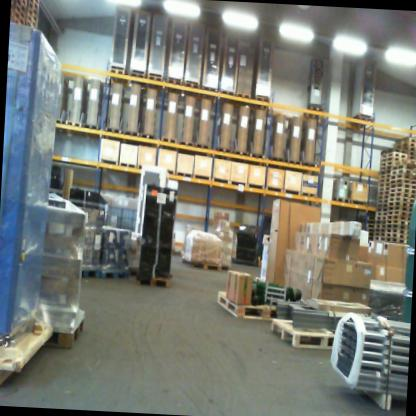pallet: (261, 309, 361, 362), (36, 311, 90, 359), (210, 286, 274, 325), (178, 246, 221, 277), (133, 269, 178, 297), (348, 112, 375, 134), (98, 265, 128, 284), (75, 261, 102, 281), (107, 63, 127, 84), (66, 117, 85, 139), (84, 119, 102, 140), (217, 86, 236, 105), (199, 84, 217, 104), (235, 89, 253, 109), (302, 102, 322, 120), (379, 150, 408, 162), (182, 80, 200, 98), (166, 76, 183, 95), (390, 163, 416, 175), (127, 68, 145, 85), (147, 70, 164, 88), (300, 189, 319, 205), (253, 91, 268, 111), (348, 197, 368, 211), (391, 159, 416, 170), (55, 113, 66, 137), (381, 154, 406, 164), (115, 159, 136, 170), (123, 126, 139, 140), (267, 154, 285, 166), (230, 148, 249, 159), (178, 137, 194, 150), (160, 134, 177, 146), (385, 232, 407, 241), (25, 6, 38, 21), (194, 141, 212, 151), (103, 125, 121, 135), (333, 195, 348, 207), (285, 158, 301, 169), (139, 131, 155, 142), (301, 160, 315, 172), (250, 150, 266, 160), (15, 0, 27, 13), (214, 145, 231, 154), (28, 1, 38, 16), (386, 237, 407, 244), (372, 235, 386, 242), (15, 0, 25, 5)
